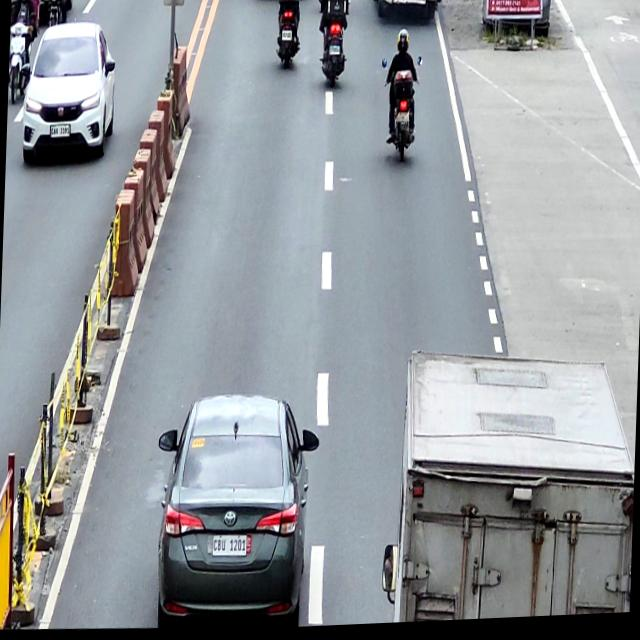Car: (152, 390, 320, 634), (21, 18, 117, 166)
License-Plate: (212, 535, 246, 559), (50, 125, 70, 139), (396, 116, 409, 127), (329, 48, 340, 59), (281, 33, 292, 43)
Motorcycle: (378, 59, 422, 166), (319, 0, 347, 91), (8, 12, 36, 103), (274, 0, 302, 72), (45, 0, 64, 30)
Truck: (379, 344, 638, 627)
